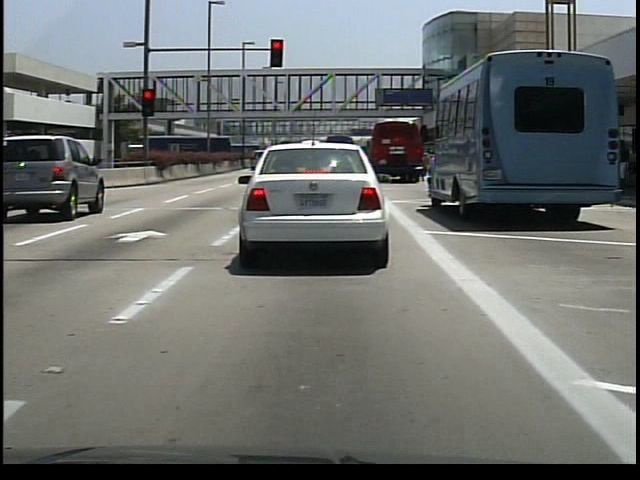person: (618, 145, 629, 193)
